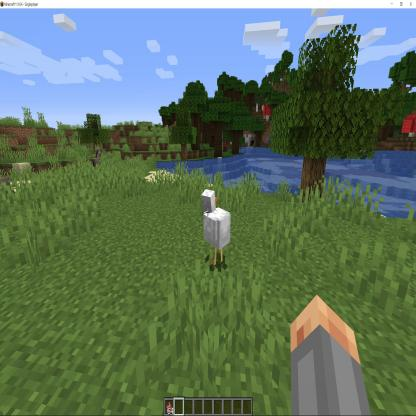minecraft-pigs: (198, 187, 233, 269)
